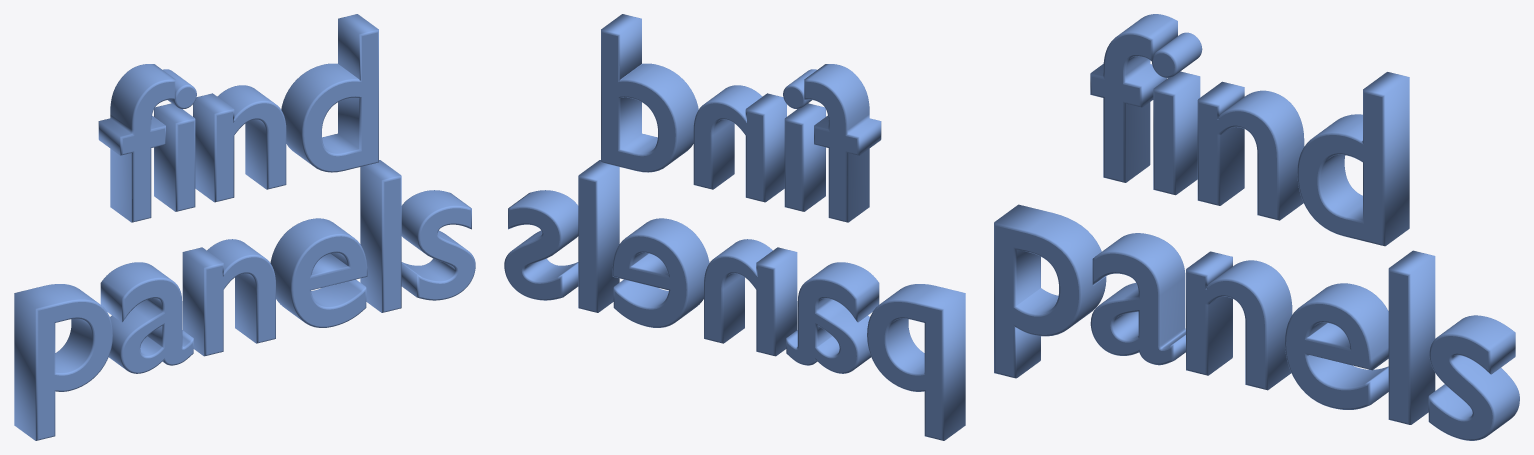
The model's file is hint1.glb.
3 renders of one model, left to right at view 1: azimuth 30°, elevation 25°; view 2: azimuth 150°, elevation 25°; view 3: azimuth 330°, elevation 25°, orthographic. The views are drawn at different scales.
Parts seen in each view (by area): view 1: Text; view 2: Text; view 3: Text.
Boxes of the visible parts, x1,y1,x2,y2 form: Text: [14, 14, 475, 440]; Text: [504, 14, 965, 440]; Text: [994, 14, 1519, 440].
Bounding box in the file's own units: 2.43 × 1.74 × 0.22.
